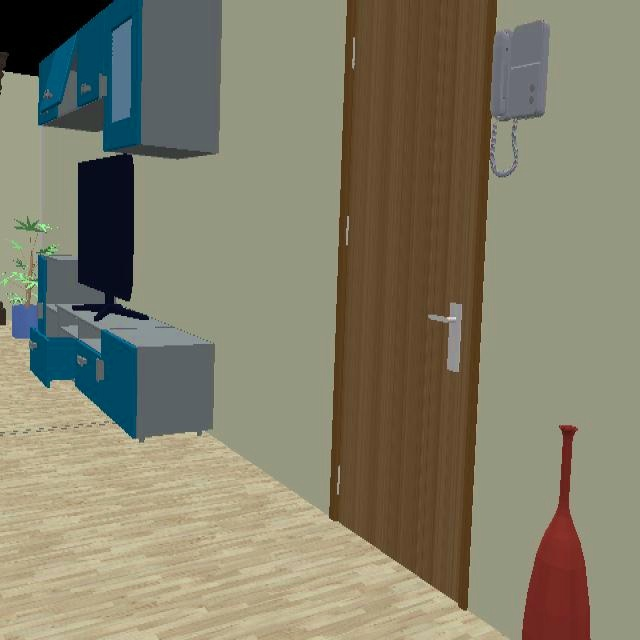cabinet: (29, 255, 214, 444), (38, 0, 222, 155)
monitor: (72, 155, 150, 323)
